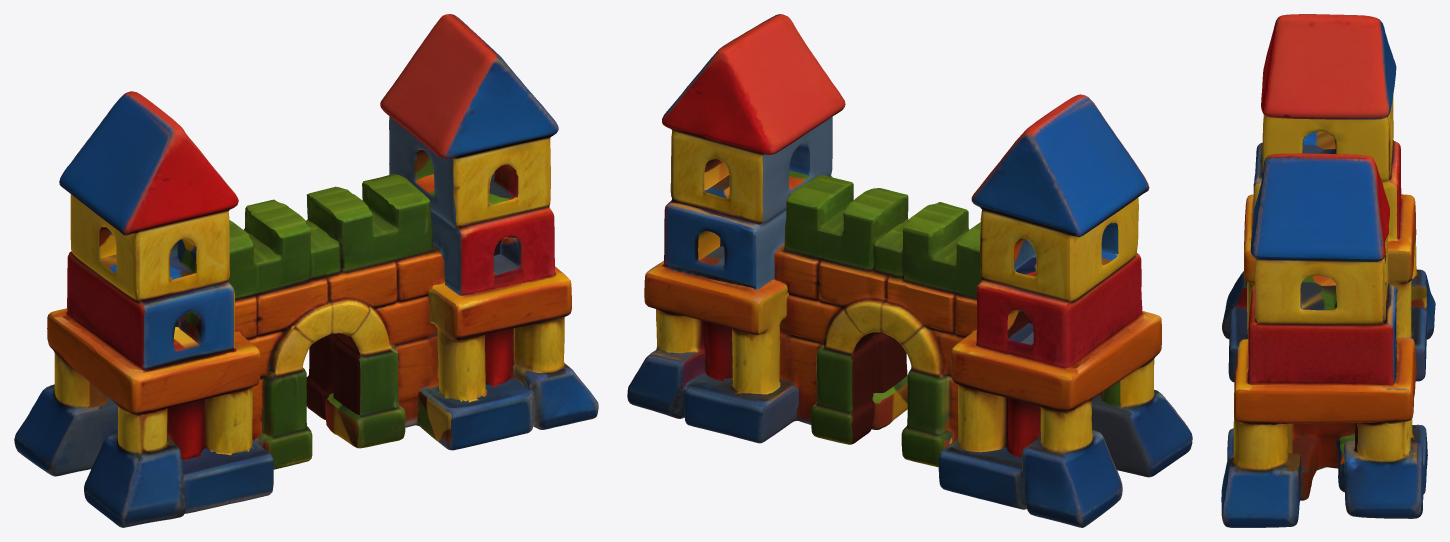
The model's file is Furniture_block-fortress.glb.
The picture shows the model from 3 angles, left to right: view 1: azimuth 30°, elevation 25°; view 2: azimuth 150°, elevation 25°; view 3: azimuth 270°, elevation 25°; orthographic projection. The views are drawn at different scales.
Visible parts, largest first — view 1: tmp2pv9s5a9.ply; view 2: tmp2pv9s5a9.ply; view 3: tmp2pv9s5a9.ply.
Boxes of the visible parts, left/top/right/bottom form: tmp2pv9s5a9.ply: left=14, top=14, right=598, bottom=527; tmp2pv9s5a9.ply: left=627, top=14, right=1192, bottom=527; tmp2pv9s5a9.ply: left=1221, top=14, right=1435, bottom=527.
Bounding box in the file's own units: 2 × 1.47 × 0.8376.
Materials: 1 (1 with a texture image).
